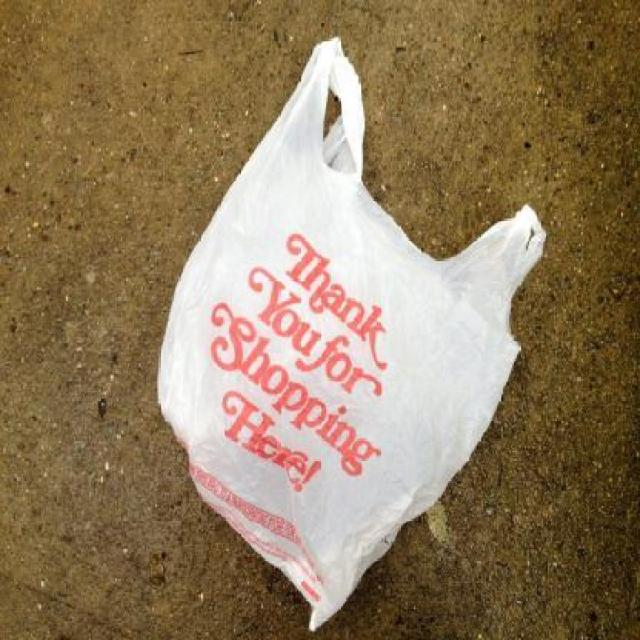plastic bag: (158, 35, 548, 634)
